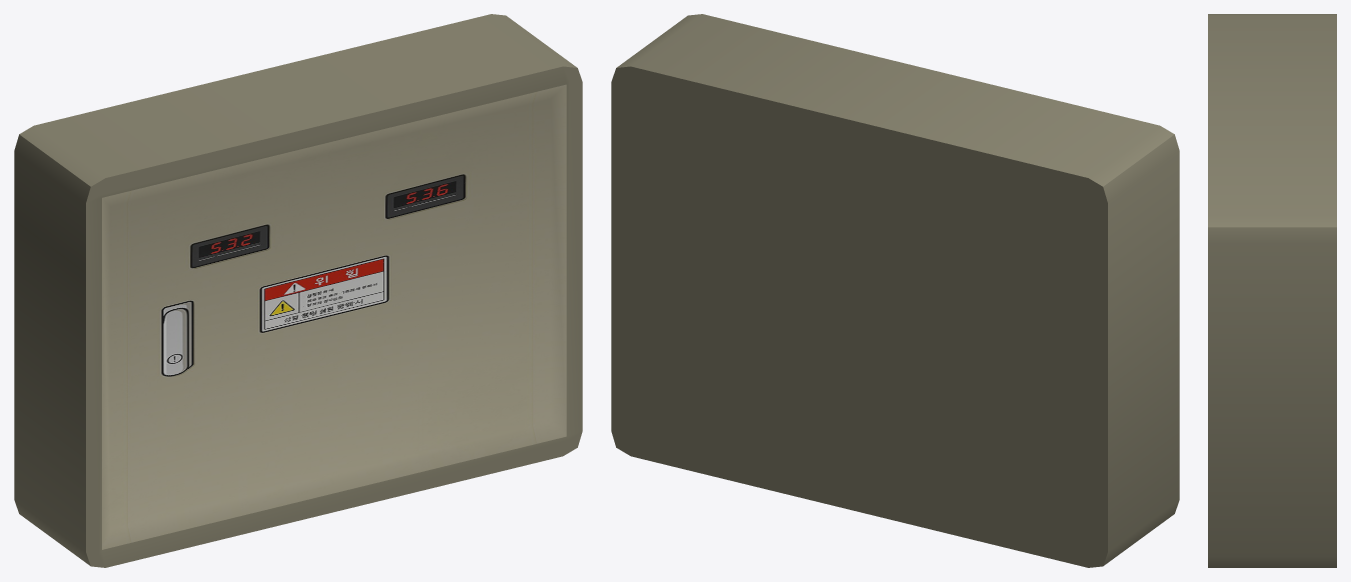
3 views of the same model, side by side, from view 1: azimuth 30°, elevation 25°; view 2: azimuth 150°, elevation 25°; view 3: azimuth 270°, elevation 25° (orthographic). The views are drawn at different scales.
Parts seen in each view (by area): view 1: PLC본체(전원환경감시)028; view 2: PLC본체(전원환경감시)028; view 3: PLC본체(전원환경감시)028.
Boxes of the visible parts, x1,y1,x2,y2 form: PLC본체(전원환경감시)028: [14, 14, 582, 567]; PLC본체(전원환경감시)028: [611, 14, 1179, 567]; PLC본체(전원환경감시)028: [1208, 14, 1336, 567].
Size of the model in its own units: 0.4 by 0.3 by 0.1.
Materials: 2 (1 with a texture image).
